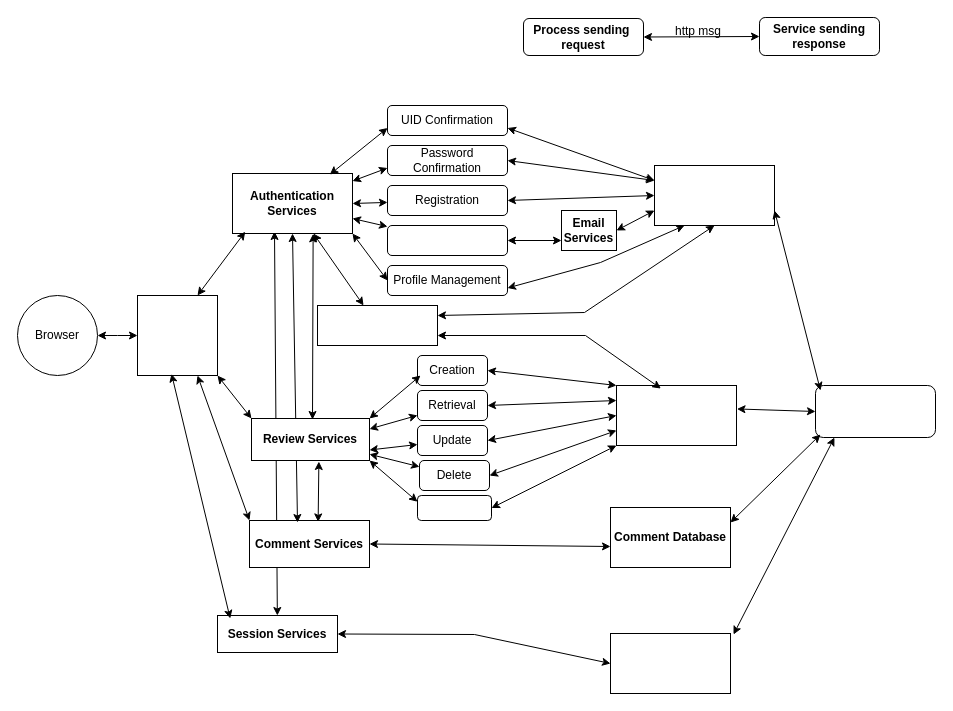
The diagram is 953 pixels wide and 711 high, and some of its shapes have lost their labels. The shapes that lost their labels are listed below. From the top down, each one's box as (x1, y1, x2, y2) in pixels, then its label:
(654, 164, 774, 226): User Database
(386, 224, 508, 256): Password Reset
(136, 294, 218, 376): API Gateway
(316, 304, 438, 346): Search Service
(616, 384, 736, 446): Review Database
(814, 384, 936, 438): Mongo Server
(416, 494, 492, 520): Like/Dislike
(610, 632, 730, 694): Session Store
